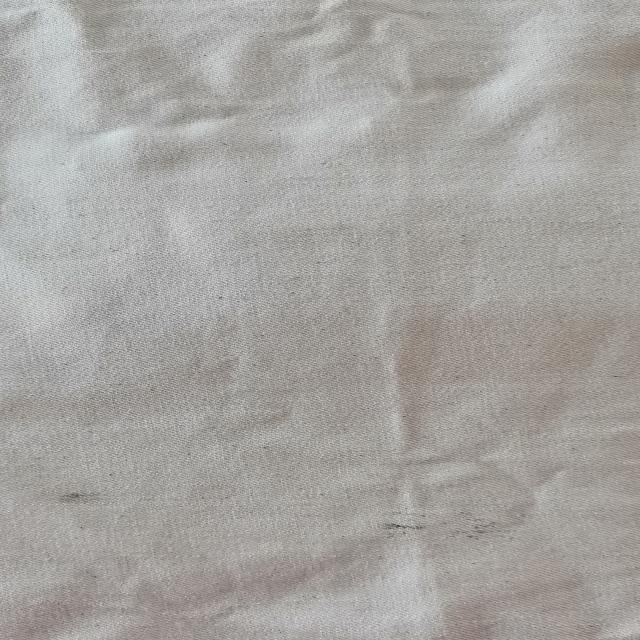taaaches: (354, 498, 454, 546), (47, 472, 138, 516)
